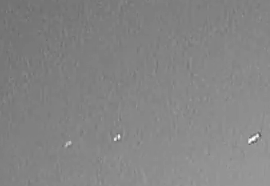Target: (66, 134, 258, 146)
